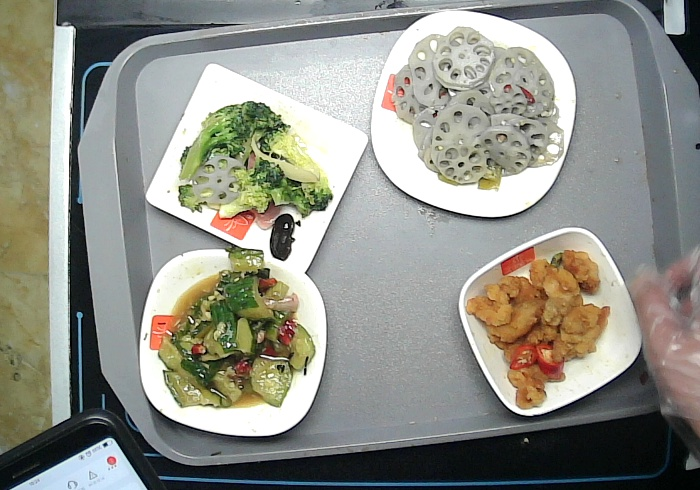SHKJ-Bai_Se_Cai_Die: (138, 248, 328, 437)
SHKJ-Bai_Se_Si_Fang_Cai_Die: (370, 9, 577, 219)
SHKJ-Bai_Se_Xiao_Fang_Die: (459, 226, 645, 418)
SHKJ-Si_Fang_Min: (143, 62, 369, 277)
